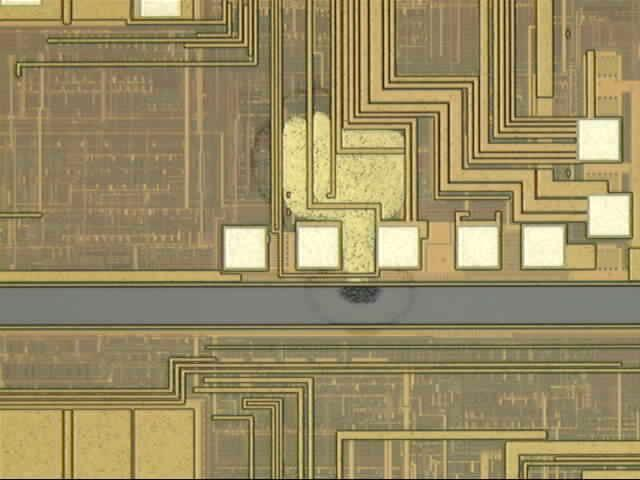BLOCK ETCH: (250, 88, 435, 343)
